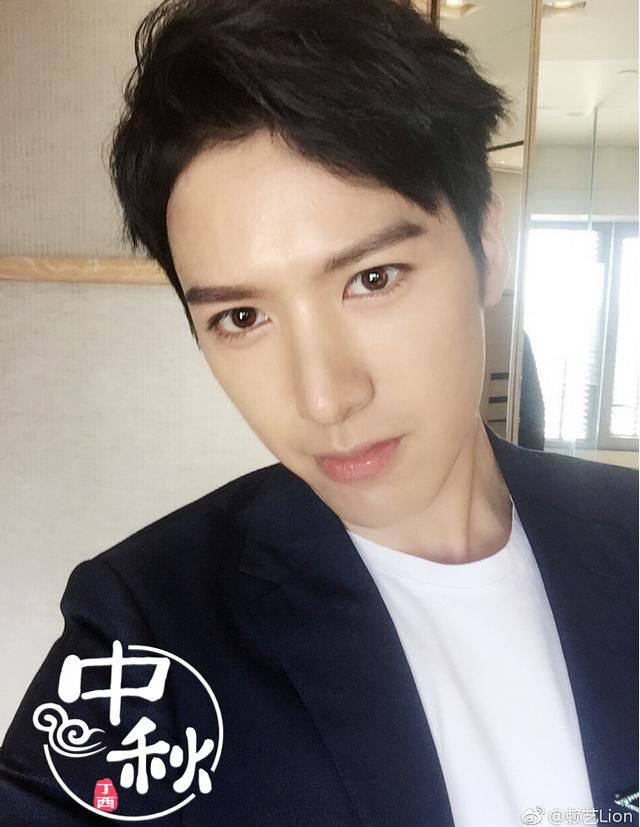person: (82, 29, 591, 795)
